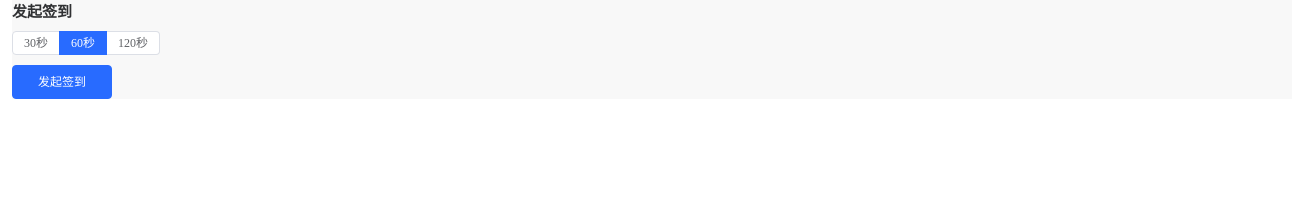
it: components/ClassRoom/CheckinPanel.vue › 无进行中签到时显示发起入口，默认60秒
Step 1. Click the button "发起签到" → (62, 82), box [12, 65, 112, 99]
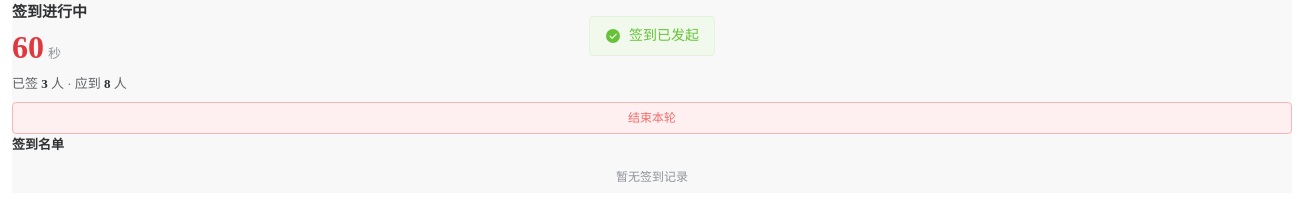
Expected: the text "签到进行中" is shown, [12, 4, 87, 20]
